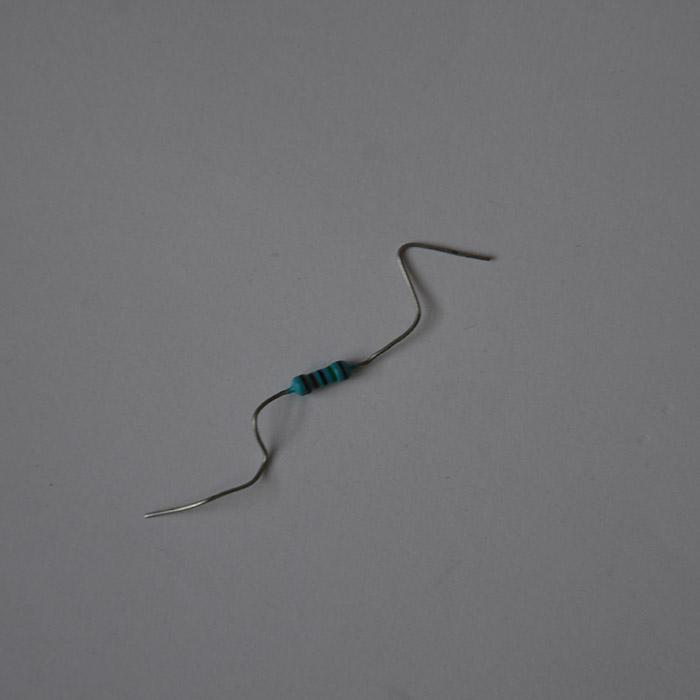resistor: (285, 359, 358, 396)
